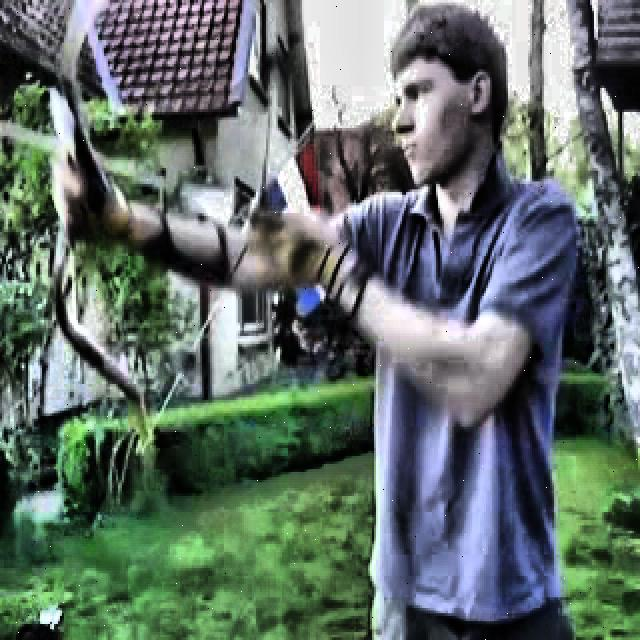P: (54, 6, 575, 634)
